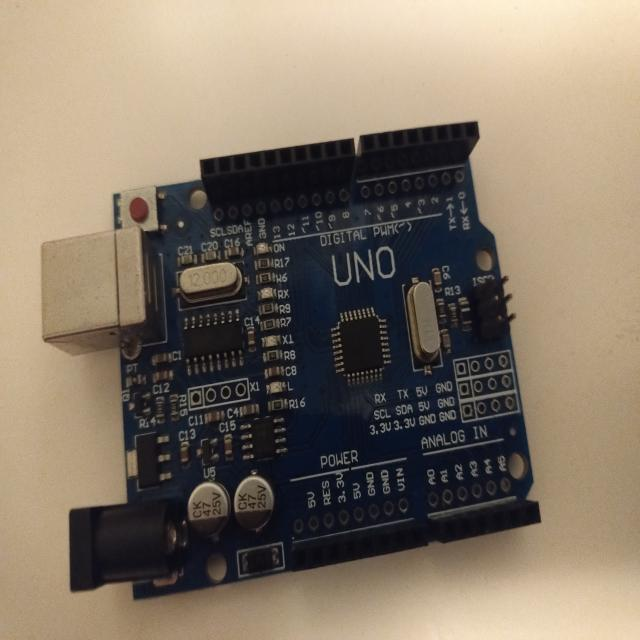arduino: (46, 110, 550, 602)
